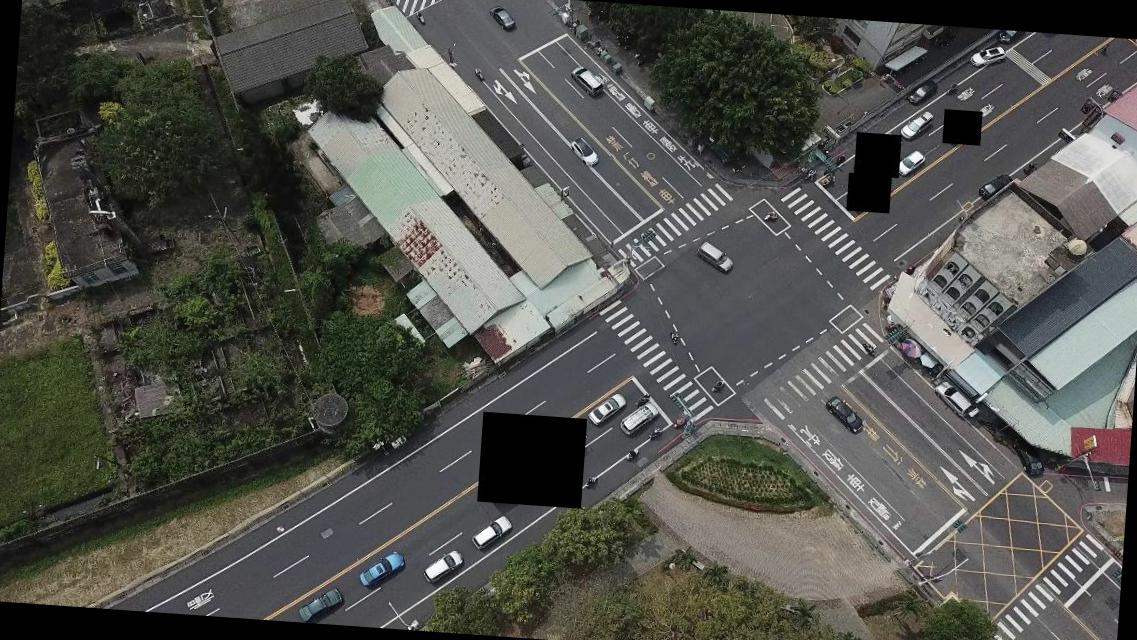vehicle: (357, 546, 406, 590), (295, 582, 344, 625), (422, 546, 463, 586), (471, 512, 512, 552), (532, 464, 572, 504), (932, 380, 975, 416), (587, 391, 627, 428), (823, 395, 863, 432), (620, 399, 658, 437), (1009, 438, 1044, 476), (694, 238, 735, 270), (976, 170, 1012, 200), (900, 108, 932, 140), (566, 136, 598, 166), (908, 75, 937, 106), (570, 66, 602, 94), (893, 150, 927, 176), (969, 44, 1005, 68), (486, 6, 514, 28)
